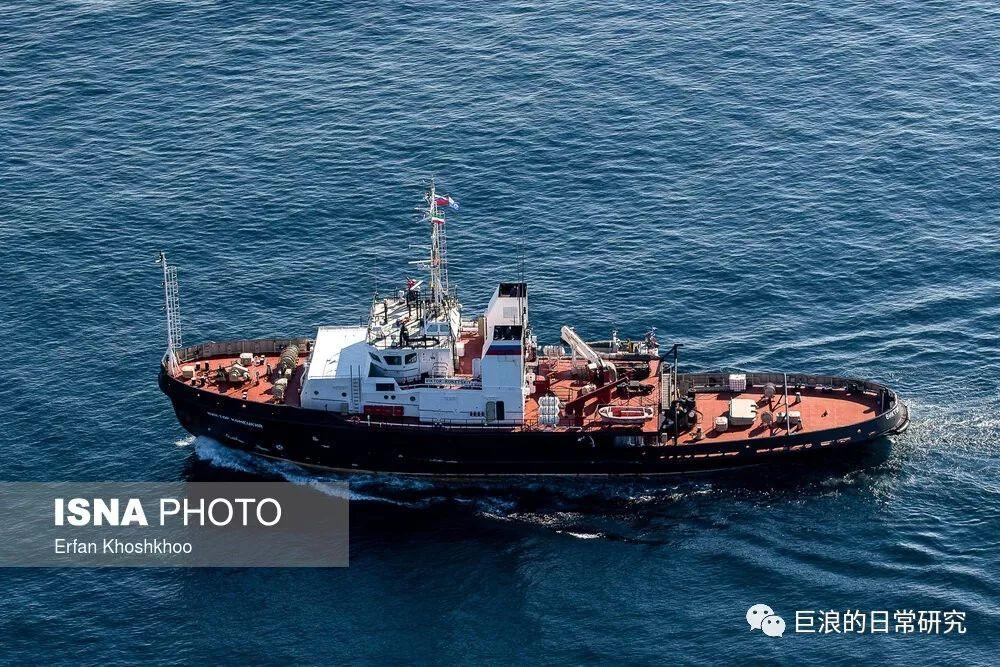otherboat: (137, 183, 911, 491)
